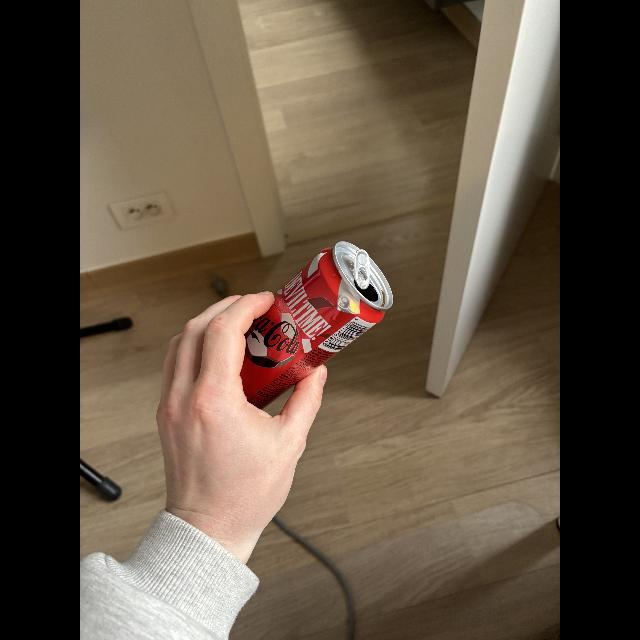Metal: (238, 236, 396, 414)
